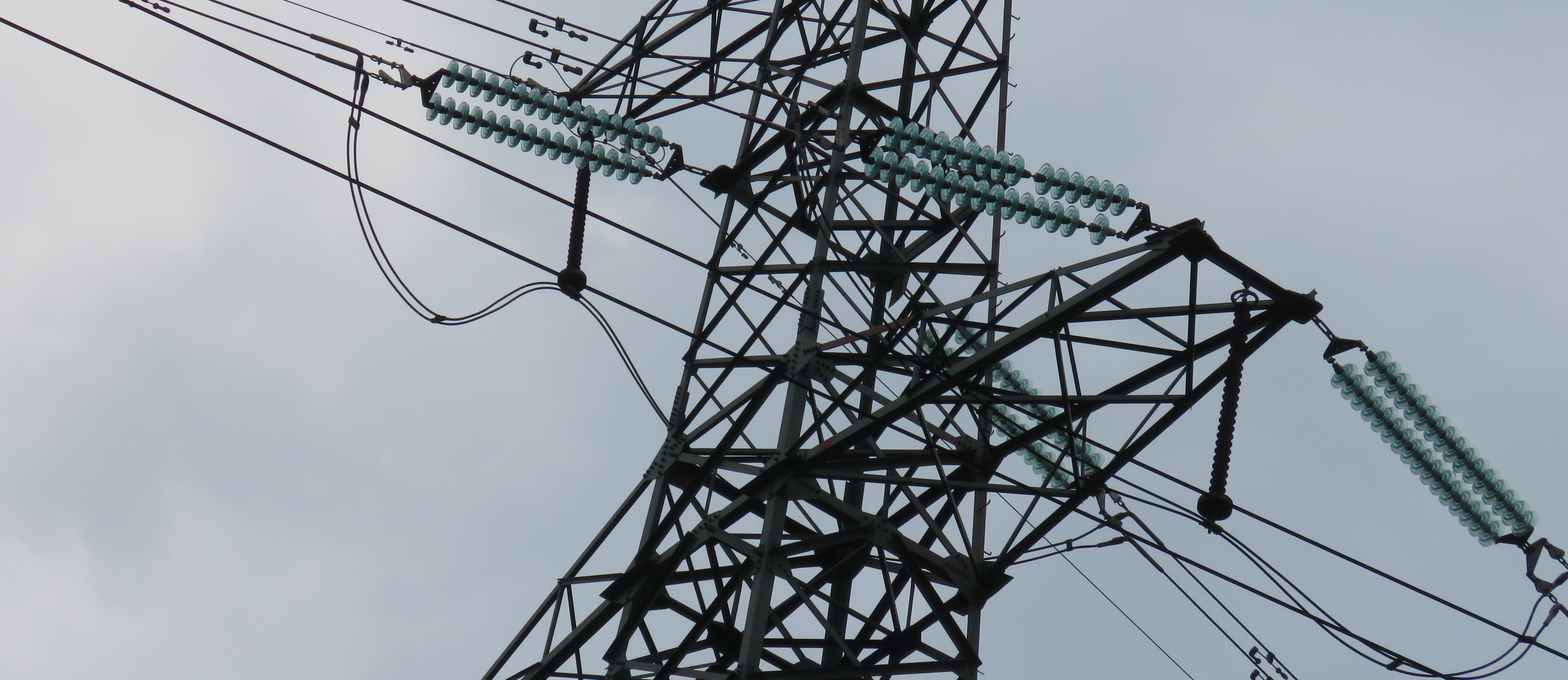绝缘子自爆区域: (1021, 157, 1047, 194), (1076, 207, 1101, 244)
